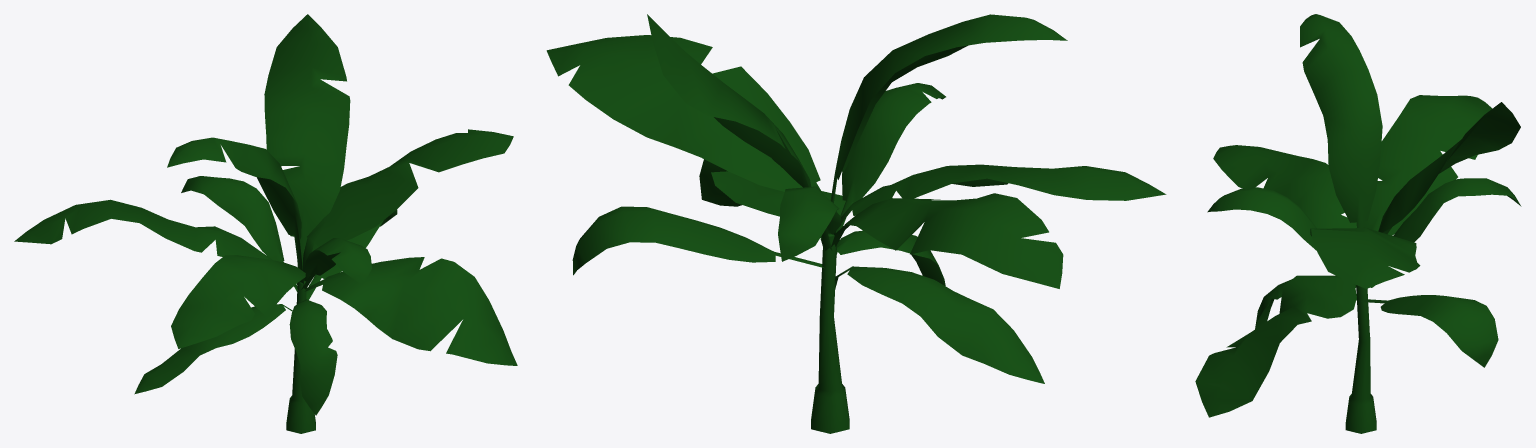
Rendered from Bush_005.FBX.
3 renders of one model, left to right at view 1: azimuth 30°, elevation 25°; view 2: azimuth 150°, elevation 25°; view 3: azimuth 270°, elevation 25°, orthographic. The views are drawn at different scales.
Parts seen in each view (by area): view 1: Bush_005; view 2: Bush_005; view 3: Bush_005.
Part boxes in pixels (bbox=[...]): Bush_005: bbox=[14, 14, 517, 433]; Bush_005: bbox=[546, 14, 1166, 433]; Bush_005: bbox=[1195, 14, 1521, 433].
Bounding box in the file's own units: 136 × 101 × 82.09.
